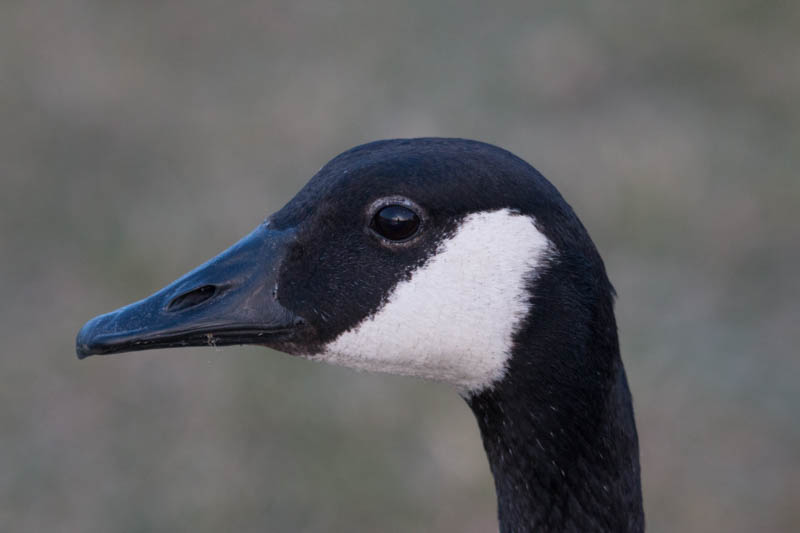goose-head: (76, 138, 617, 400)
